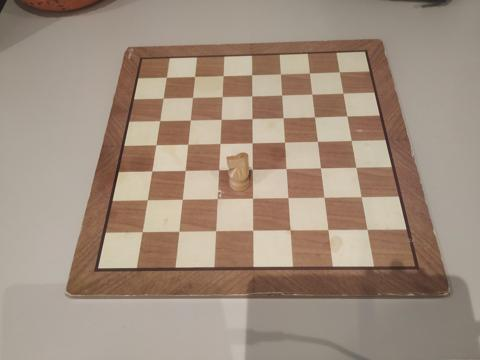xcorner: (137, 229, 147, 239), (174, 229, 184, 239), (211, 228, 221, 238), (248, 228, 258, 238), (286, 227, 296, 237), (324, 227, 334, 237), (363, 226, 373, 236), (142, 197, 152, 207), (212, 196, 222, 206), (248, 195, 258, 205), (320, 194, 330, 204), (357, 193, 367, 203), (147, 168, 157, 178), (180, 167, 190, 177), (214, 166, 224, 176), (282, 165, 292, 175), (317, 164, 327, 174), (352, 163, 362, 173), (151, 141, 161, 151), (183, 140, 193, 150), (215, 139, 225, 149), (280, 138, 290, 148), (347, 136, 357, 146), (185, 116, 195, 126), (216, 115, 226, 125), (247, 114, 257, 124), (279, 113, 289, 123), (311, 112, 321, 122), (343, 111, 353, 121), (158, 94, 168, 104), (188, 93, 198, 103), (217, 92, 227, 102), (247, 91, 257, 101), (277, 90, 287, 100), (308, 89, 318, 99), (339, 88, 349, 98), (161, 73, 171, 83), (190, 72, 200, 82), (218, 71, 228, 81), (247, 70, 257, 80), (276, 69, 286, 79), (305, 68, 315, 78), (335, 67, 345, 77), (177, 197, 187, 206), (284, 195, 294, 204), (248, 166, 258, 175), (314, 137, 323, 147), (155, 117, 165, 126), (248, 139, 257, 148)
